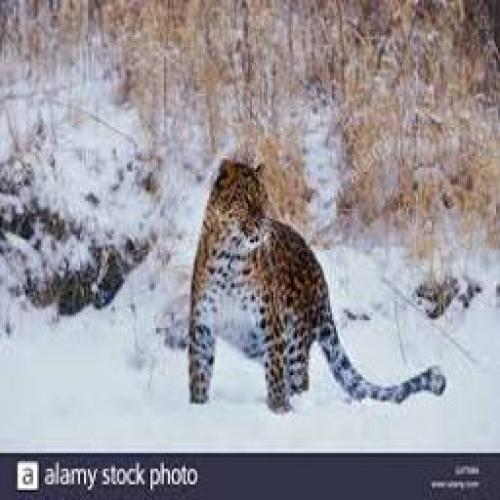amur_leopard-endangered: (186, 158, 448, 412)
